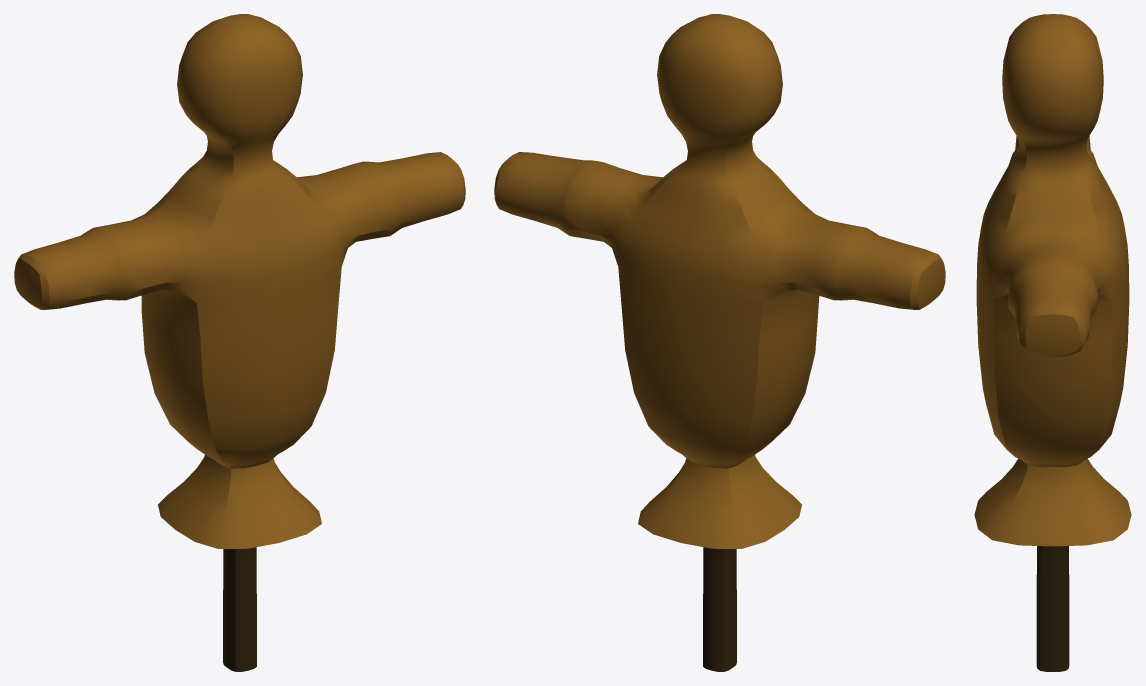
Rendered from Trainingspuppe2.fbx.
3 renders of one model, left to right at view 1: azimuth 30°, elevation 25°; view 2: azimuth 150°, elevation 25°; view 3: azimuth 270°, elevation 25°, orthographic.
Parts seen in each view (by area): view 1: Puppe; view 2: Puppe; view 3: Puppe.
Boxes of the visible parts, box(x1,y1,x2,y2) form: Puppe: box(14, 14, 465, 671); Puppe: box(494, 14, 945, 671); Puppe: box(974, 14, 1131, 671).
Size of the model in its own units: 878 by 1267 by 279.
